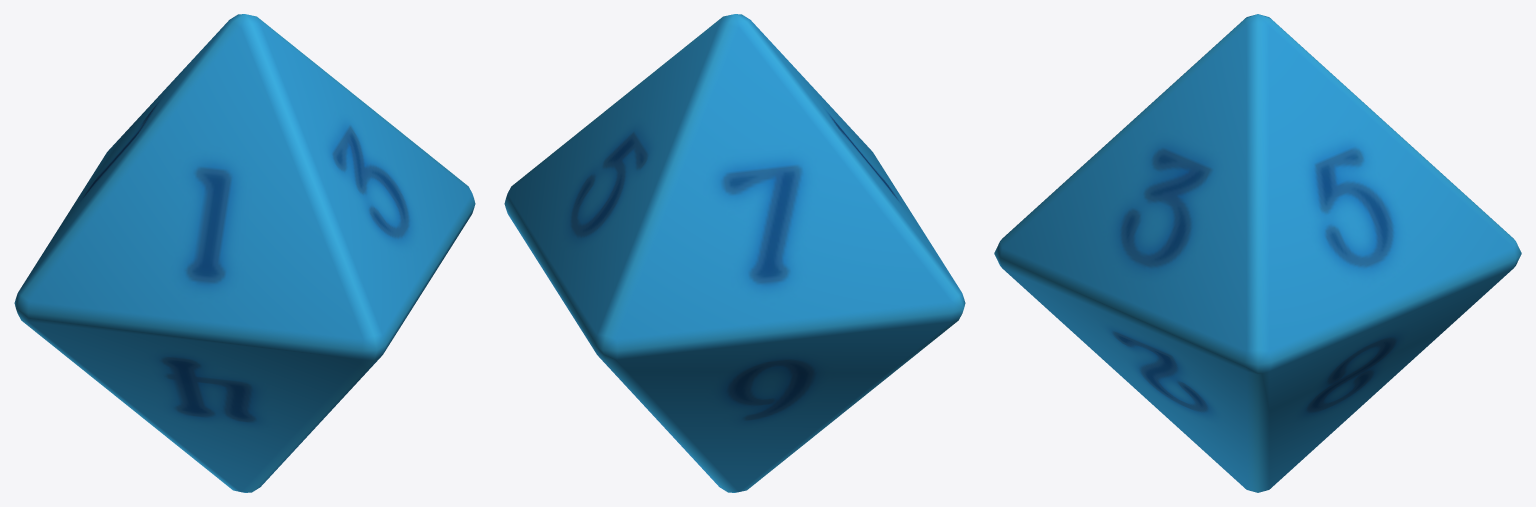
Rendered from KFB_BGB_D8_blue.r1.glb.
3 views of the same model, side by side, from view 1: azimuth 30°, elevation 25°; view 2: azimuth 150°, elevation 25°; view 3: azimuth 270°, elevation 25° (orthographic).
Parts seen in each view (by area): view 1: KFB_BGB_D8_blue; view 2: KFB_BGB_D8_blue; view 3: KFB_BGB_D8_blue.
Part boxes in pixels (<box>): KFB_BGB_D8_blue: <box>14,14,475,492</box>; KFB_BGB_D8_blue: <box>504,14,965,492</box>; KFB_BGB_D8_blue: <box>994,14,1521,492</box>.
Size of the model in its own units: 3.25 by 3.25 by 3.25.
1 material, 1 textured.
